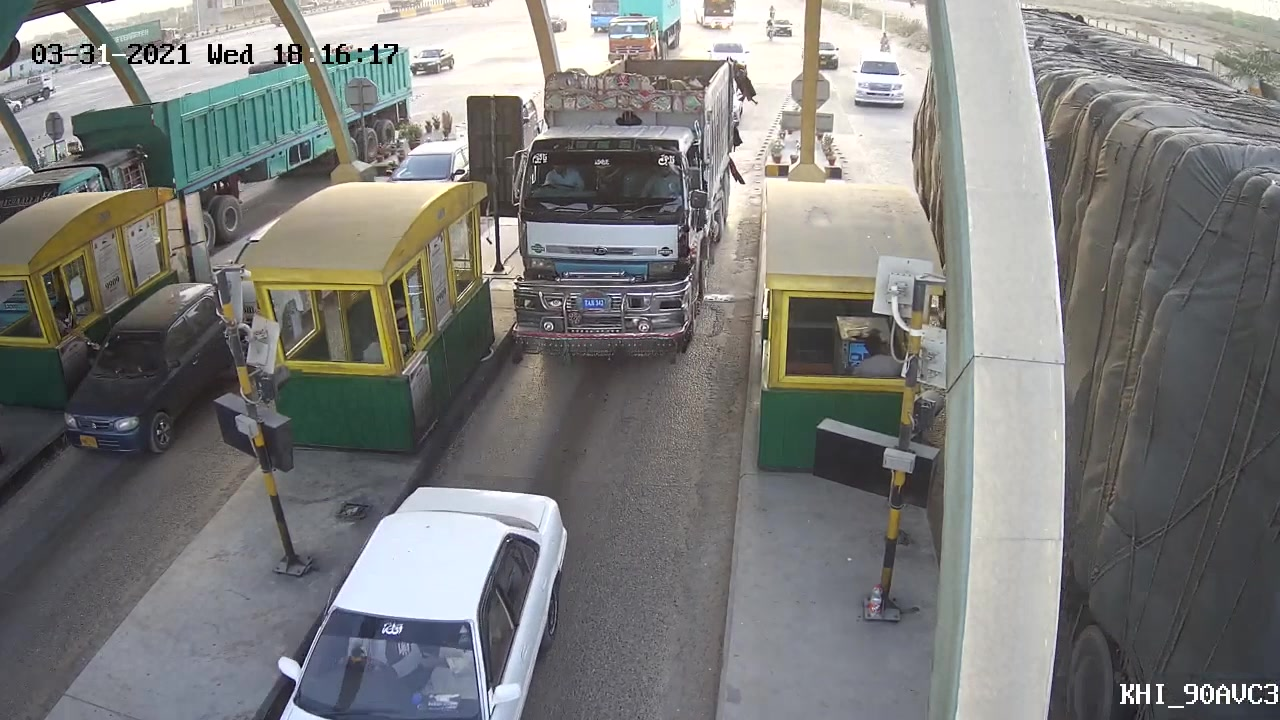F5: (493, 66, 747, 360)
